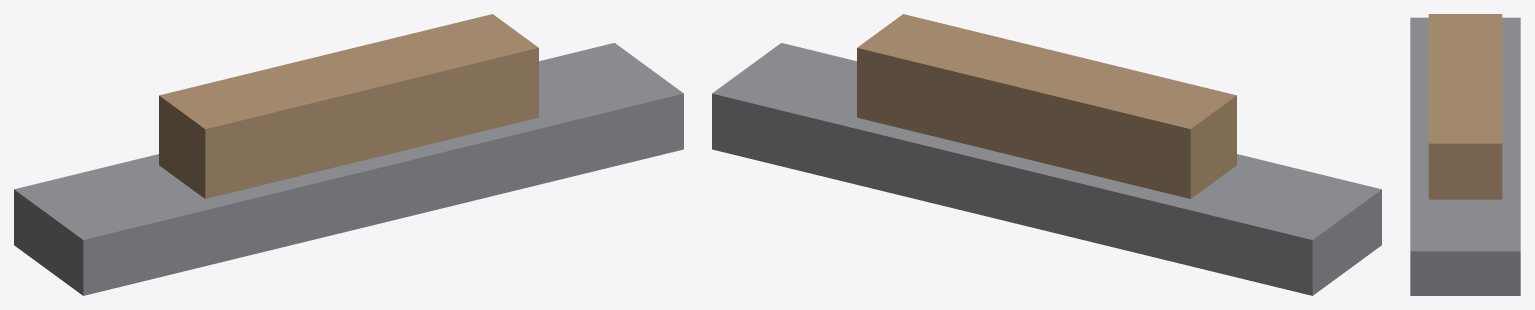
The model's file is prop-bung-taper-float-bb1.fbx.
3 views of the same model, side by side, from view 1: azimuth 30°, elevation 25°; view 2: azimuth 150°, elevation 25°; view 3: azimuth 270°, elevation 25° (orthographic). The views are drawn at different scales.
Parts seen in each view (by area): view 1: prop-bung-taper-float-bb1; view 2: prop-bung-taper-float-bb1; view 3: prop-bung-taper-float-bb1.
Boxes of the visible parts, bbox=[...] form: prop-bung-taper-float-bb1: bbox=[14, 14, 683, 295]; prop-bung-taper-float-bb1: bbox=[712, 14, 1381, 295]; prop-bung-taper-float-bb1: bbox=[1410, 14, 1520, 295].
Size of the model in its own units: 18 by 3.6 by 3.6.
